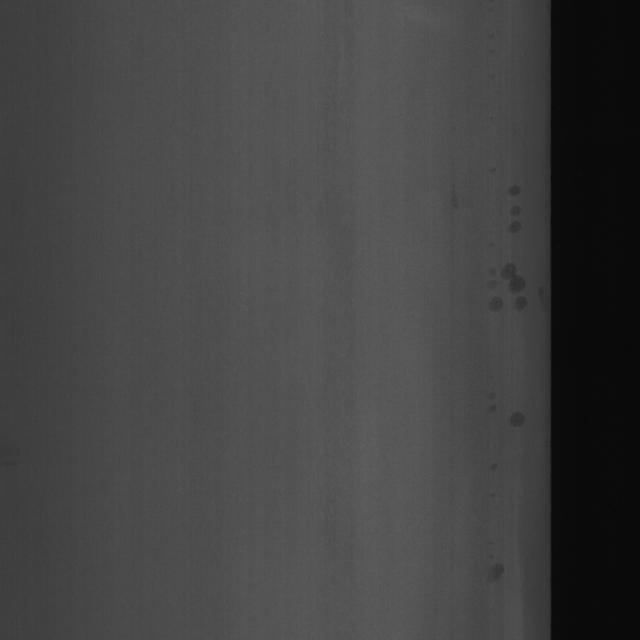welding_line: (486, 248, 528, 326), (505, 185, 530, 242), (505, 397, 530, 438)
